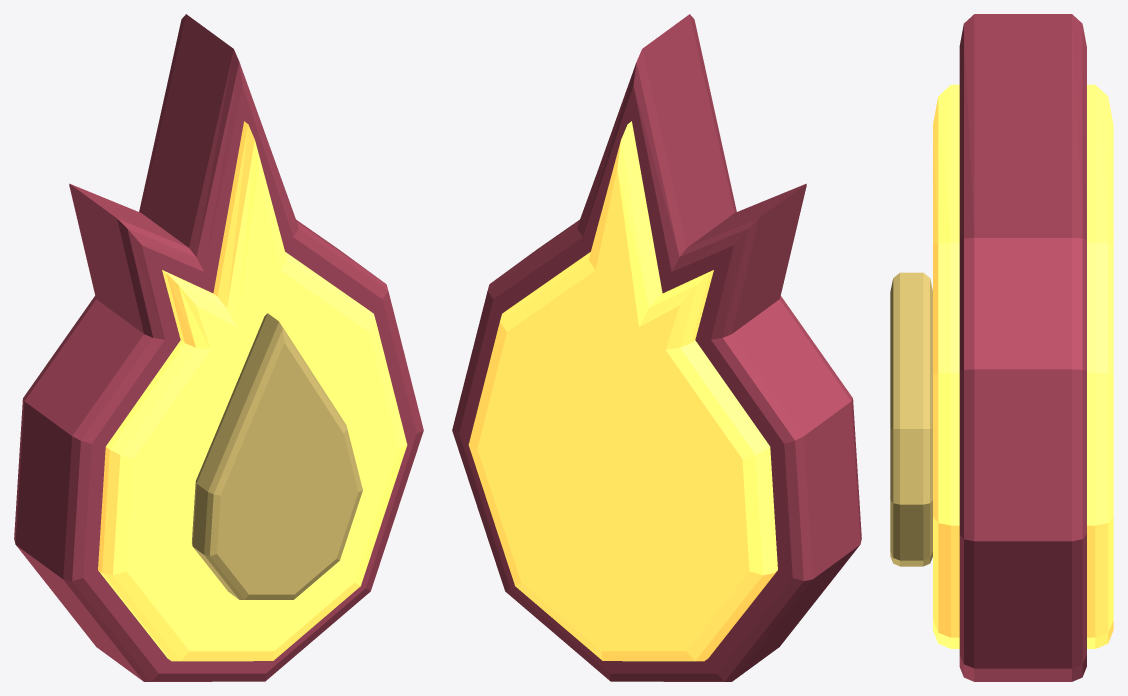
Rendered from game-ui-icon-library-flame-08498927__18992.glb.
The picture shows the model from 3 angles, left to right: view 1: azimuth 30°, elevation 25°; view 2: azimuth 150°, elevation 25°; view 3: azimuth 270°, elevation 25°; orthographic projection. The views are drawn at different scales.
Parts seen in each view (by area): view 1: flame; view 2: flame; view 3: flame.
Boxes of the visible parts, box(x1,y1,x2,y2) form: flame: box(14, 14, 423, 681); flame: box(452, 14, 861, 681); flame: box(890, 14, 1113, 681).
Bounding box in the file's own units: 0.5529 × 0.94 × 0.2903.
